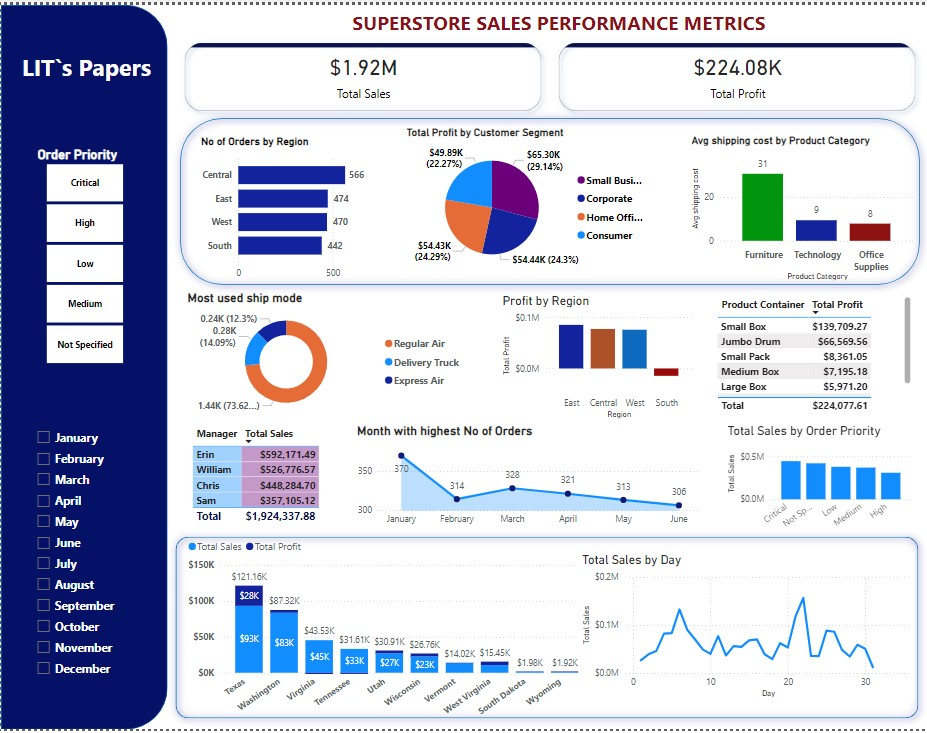

What the dashboard file says about the page in this screenshot:
{"tool":"powerbi","page":{"name":"Superstore","canvas":[1280,1000],"ordinal":0},"visuals":[{"type":"shape","box":[0,0,230,1000.7],"z":0},{"type":"cardVisual","fields":{"Data":["Orders.Total Sales","Orders.Total Profit"]},"box":[236.2,35.2,1044.2,128.5],"z":1000},{"type":"donutChart","title":"Most used ship mode","fields":{"Category":["Orders.Ship Mode"],"Y":["Orders.Ship Mode"]},"box":[252.8,393.7,393.7,178.2],"z":2000},{"type":"textbox","box":[358.4,0,824.6,58],"z":3000},{"type":"shape","box":[236.2,145,1044.2,252.8],"z":4000},{"type":"barChart","title":"No of Orders by Region","fields":{"Category":["Orders.Region"],"Y":["Orders.Order ID"]},"box":[271.4,180.3,244.5,207.2],"z":5000},{"type":"clusteredColumnChart","fields":{"Category":["Orders.Product Category"],"Y":["Orders.Avg shipping cost"]},"box":[948.9,178.2,317,207.2],"z":6000},{"type":"pieChart","fields":{"Category":["Orders.Customer Segment"],"Y":["Orders.Total Profit"]},"box":[555.3,167.8,346,207.2],"z":7000},{"type":"shape","box":[230,723.1,1048.4,273.5],"z":8000},{"type":"columnChart","fields":{"Category":["Orders.State or Province"],"Y":["Orders.Total Sales","Orders.Total Profit"]},"box":[252.8,727.2,569.8,273.5],"z":9000},{"type":"tableEx","fields":{"Values":["Users.Manager","Orders.Total Sales"]},"box":[259,576,198.9,145],"z":10000},{"type":"lineChart","title":"Month with highest No of Orders","fields":{"Category":["Orders.Order Date.Variation.Date Hierarchy.Month"],"Y":["Orders.Order ID"]},"box":[486.9,578.1,484.8,149.2],"z":11000},{"type":"columnChart","title":"Profit by Region","fields":{"Category":["Users.Region"],"Y":["Orders.Total Profit"]},"box":[687.9,397.8,271.4,178.2],"z":12000},{"type":"tableEx","fields":{"Values":["Orders.Product Container","Orders.Total Profit"]},"box":[984.1,397.8,277.6,169.9],"z":13000},{"type":"columnChart","fields":{"Category":["Orders.Order Priority"],"Y":["Orders.Total Sales"]},"box":[998.6,578.1,263.1,155.4],"z":14000},{"type":"slicer","fields":{"Values":["Orders.Order Priority"]},"box":[37.3,190.6,155.4,310.8],"z":15000},{"type":"textbox","box":[0,58,236.2,109.8],"z":16000},{"type":"lineChart","fields":{"Category":["Orders.Ship Date.Variation.Date Hierarchy.Day"],"Y":["Orders.Total Sales"]},"box":[797.7,756.2,464.1,205.1],"z":17000},{"type":"slicer","fields":{"Values":["Orders.Ship Date.Variation.Date Hierarchy.Month"]},"box":[37.3,578.1,155.4,375],"z":17001}]}

Visuals, with their boxes in screenshot pixels (x1, y1, x2, y2), scaled from the page's 1280x1000 canvas onto the 927x733 screenshot:
shape: 0, 0, 167, 732
cardVisual - Orders.Total Sales x Orders.Total Profit: 171, 26, 926, 120
"Most used ship mode" donutChart: 183, 289, 468, 419
textbox: 260, 0, 857, 43
shape: 171, 106, 926, 292
"No of Orders by Region" barChart: 197, 132, 374, 284
clusteredColumnChart - Orders.Product Category x Orders.Avg shipping cost: 687, 131, 917, 282
pieChart - Orders.Customer Segment x Orders.Total Profit: 402, 123, 653, 275
shape: 167, 530, 926, 731
columnChart - Orders.State or Province x Orders.Total Sales: 183, 533, 596, 732
tableEx - Users.Manager x Orders.Total Sales: 188, 422, 332, 528
"Month with highest No of Orders" lineChart: 353, 424, 704, 533
"Profit by Region" columnChart: 498, 292, 695, 422
tableEx - Orders.Product Container x Orders.Total Profit: 713, 292, 914, 416
columnChart - Orders.Order Priority x Orders.Total Sales: 723, 424, 914, 538
slicer - Orders.Order Priority: 27, 140, 140, 368
textbox: 0, 43, 171, 123
lineChart - Orders.Ship Date.Variation.Date Hierarchy.Day x Orders.Total Sales: 578, 554, 914, 705
slicer - Orders.Ship Date.Variation.Date Hierarchy.Month: 27, 424, 140, 699
